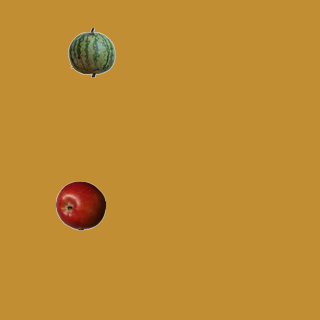Apple Braeburn: (55, 180, 105, 230)
Watermelon: (66, 27, 116, 77)
